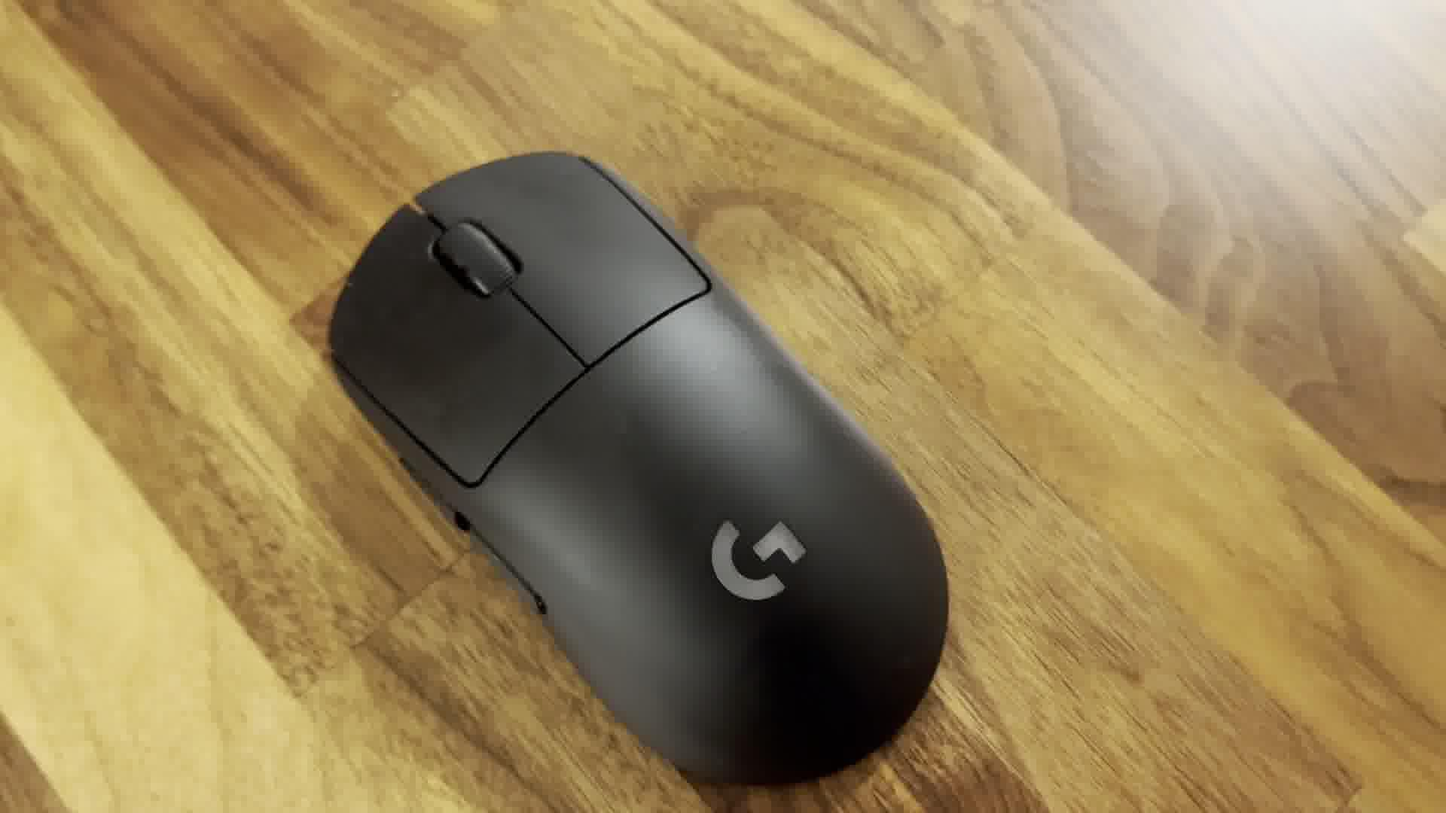logicool: (318, 142, 954, 791)
